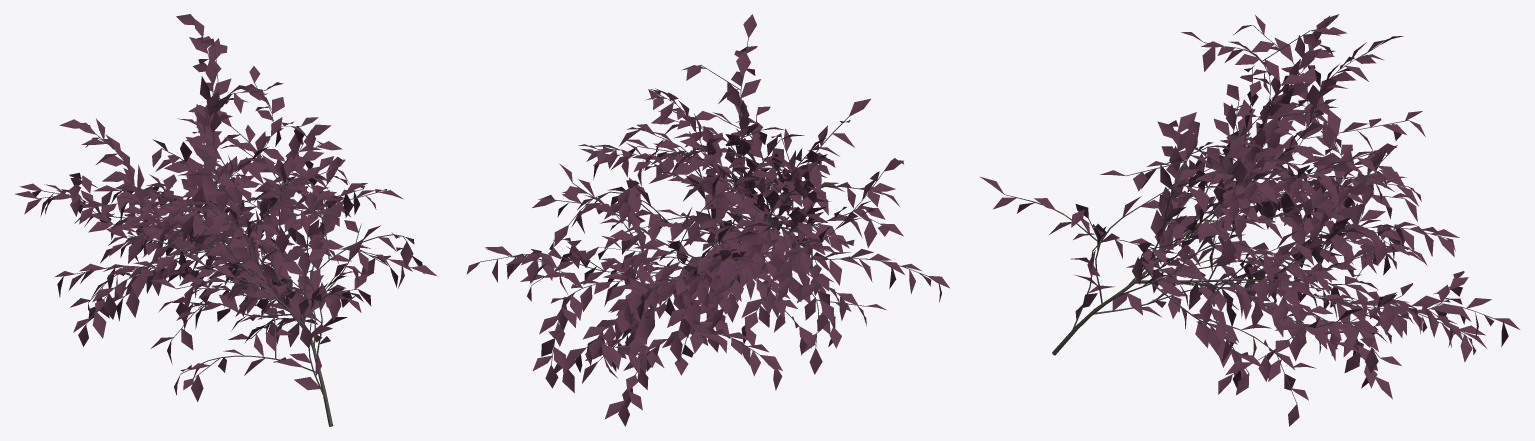
The model's file is Tree 10.glb.
3 views of the same model, side by side, from view 1: azimuth 30°, elevation 25°; view 2: azimuth 150°, elevation 25°; view 3: azimuth 270°, elevation 25° (orthographic). The views are drawn at different scales.
Visible parts, largest first — view 1: Tree_Prunus-cerasifera_A_summer.006_Tree_Prunus-cerasifera_A; view 2: Tree_Prunus-cerasifera_A_summer.006_Tree_Prunus-cerasifera_A; view 3: Tree_Prunus-cerasifera_A_summer.006_Tree_Prunus-cerasifera_A.
Boxes of the visible parts, left/top/right/bottom form: Tree_Prunus-cerasifera_A_summer.006_Tree_Prunus-cerasifera_A: left=15, top=14, right=437, bottom=426; Tree_Prunus-cerasifera_A_summer.006_Tree_Prunus-cerasifera_A: left=466, top=14, right=949, bottom=426; Tree_Prunus-cerasifera_A_summer.006_Tree_Prunus-cerasifera_A: left=980, top=14, right=1519, bottom=426.
Size of the model in its own units: 2.97 by 2.31 by 3.34.
